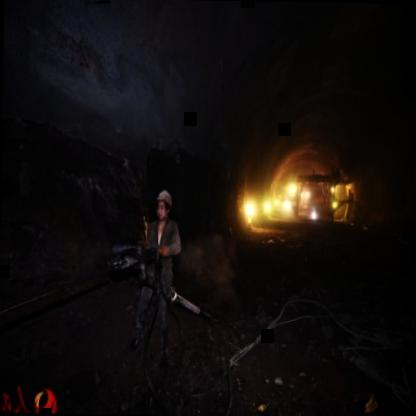helmet: (154, 188, 174, 223)
